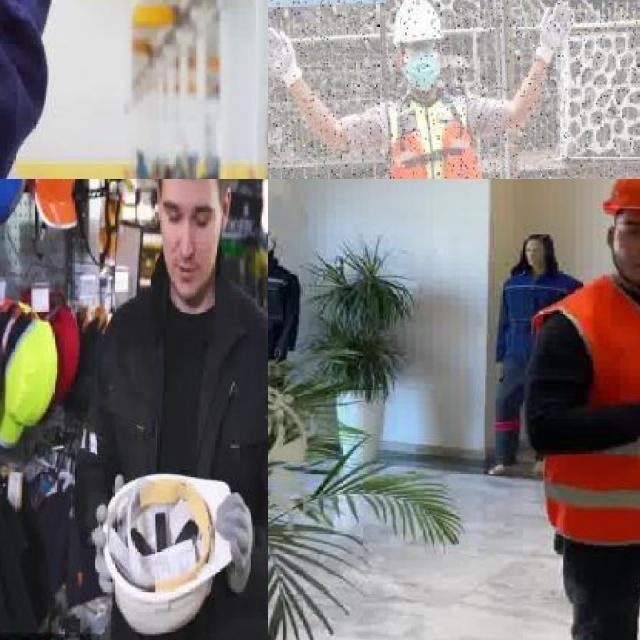apron: (94, 472, 122, 598), (213, 490, 254, 574), (268, 23, 306, 91), (534, 0, 572, 67)
